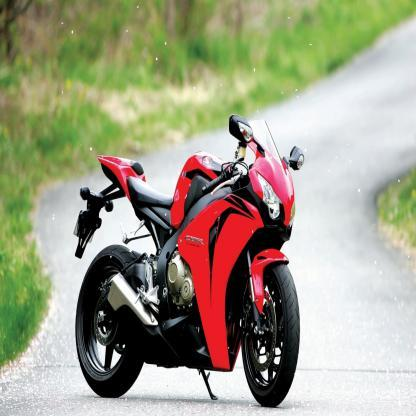Motorcycle: (68, 114, 311, 410)
